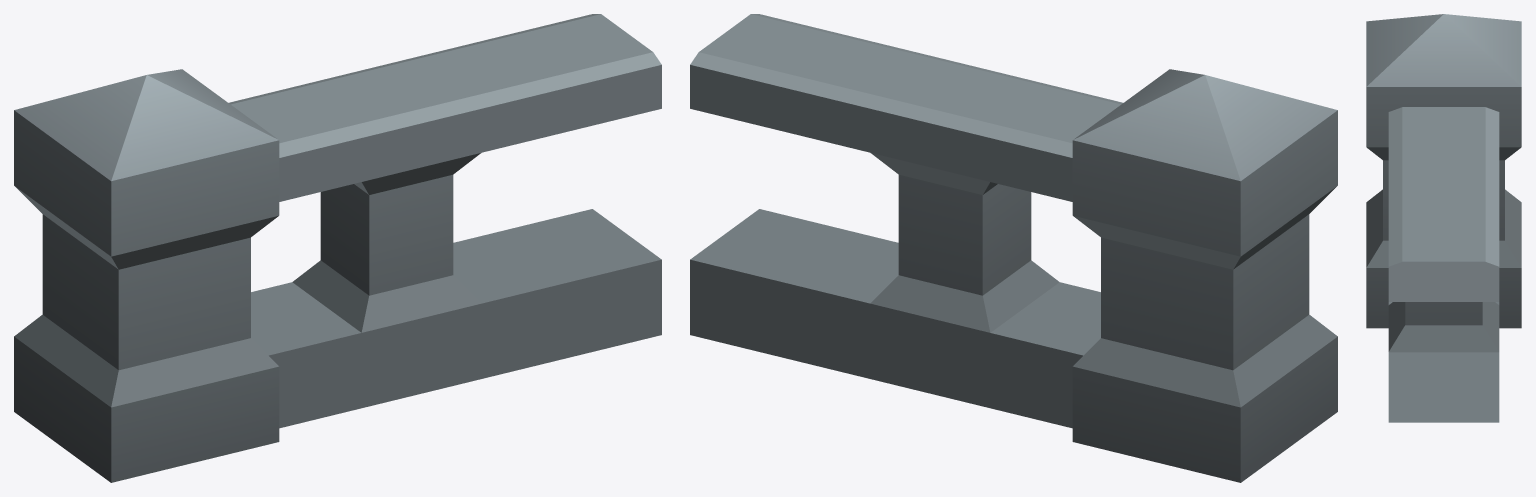
The model's file is barrier_colum_half.obj.
3 renders of one model, left to right at view 1: azimuth 30°, elevation 25°; view 2: azimuth 150°, elevation 25°; view 3: azimuth 270°, elevation 25°, orthographic. The views are drawn at different scales.
Visible parts, largest first — view 1: barrier_colum_half; view 2: barrier_colum_half; view 3: barrier_colum_half.
Part boxes in pixels (x1,y1,x2,y2): barrier_colum_half: (14,14,661,482); barrier_colum_half: (690,14,1337,482); barrier_colum_half: (1366,14,1521,422).
Bounding box in the file's own units: 2.35 × 1.4 × 0.7.
Materials: 1 (1 with a texture image).
